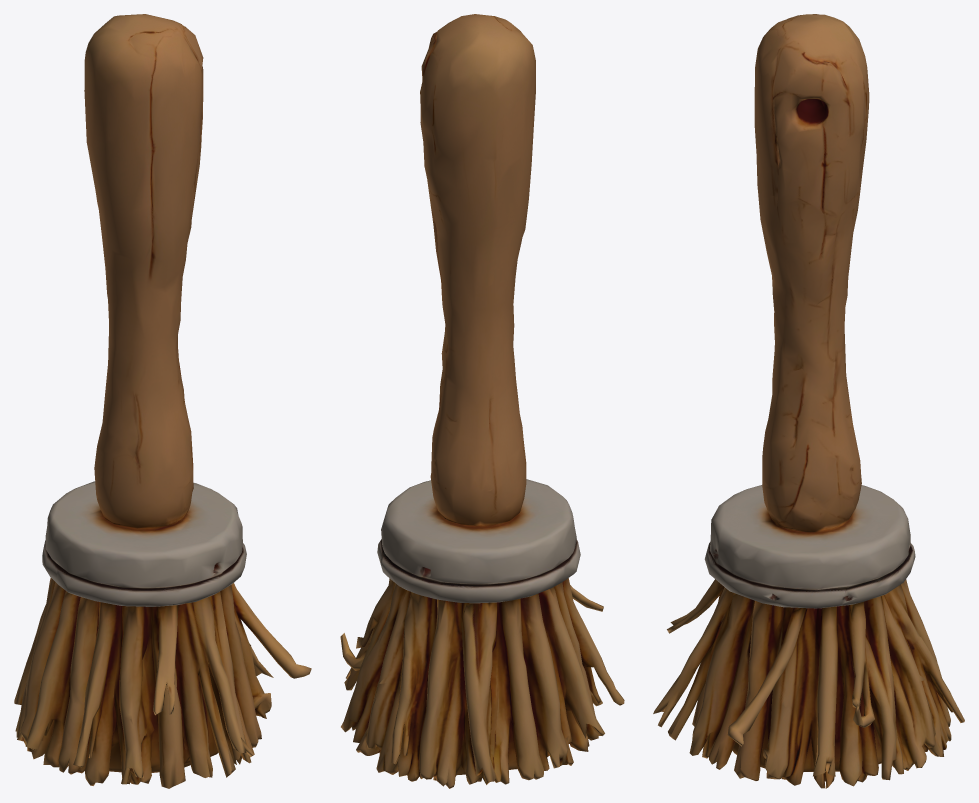
Rendered from brush.glb.
The picture shows the model from 3 angles, left to right: view 1: azimuth 30°, elevation 25°; view 2: azimuth 150°, elevation 25°; view 3: azimuth 270°, elevation 25°; orthographic projection.
Visible parts, largest first — view 1: tripo_node_e5b5b11a-9ead-4bba-9e6b-5cd40a00b78d; view 2: tripo_node_e5b5b11a-9ead-4bba-9e6b-5cd40a00b78d; view 3: tripo_node_e5b5b11a-9ead-4bba-9e6b-5cd40a00b78d.
Part boxes in pixels (x1,y1,x2,y2): tripo_node_e5b5b11a-9ead-4bba-9e6b-5cd40a00b78d: [14, 14, 311, 788]; tripo_node_e5b5b11a-9ead-4bba-9e6b-5cd40a00b78d: [340, 14, 624, 788]; tripo_node_e5b5b11a-9ead-4bba-9e6b-5cd40a00b78d: [653, 14, 964, 788].
Bounding box in the file's own units: 0.3718 × 1 × 0.3917.
Materials: 1 (1 with a texture image).
